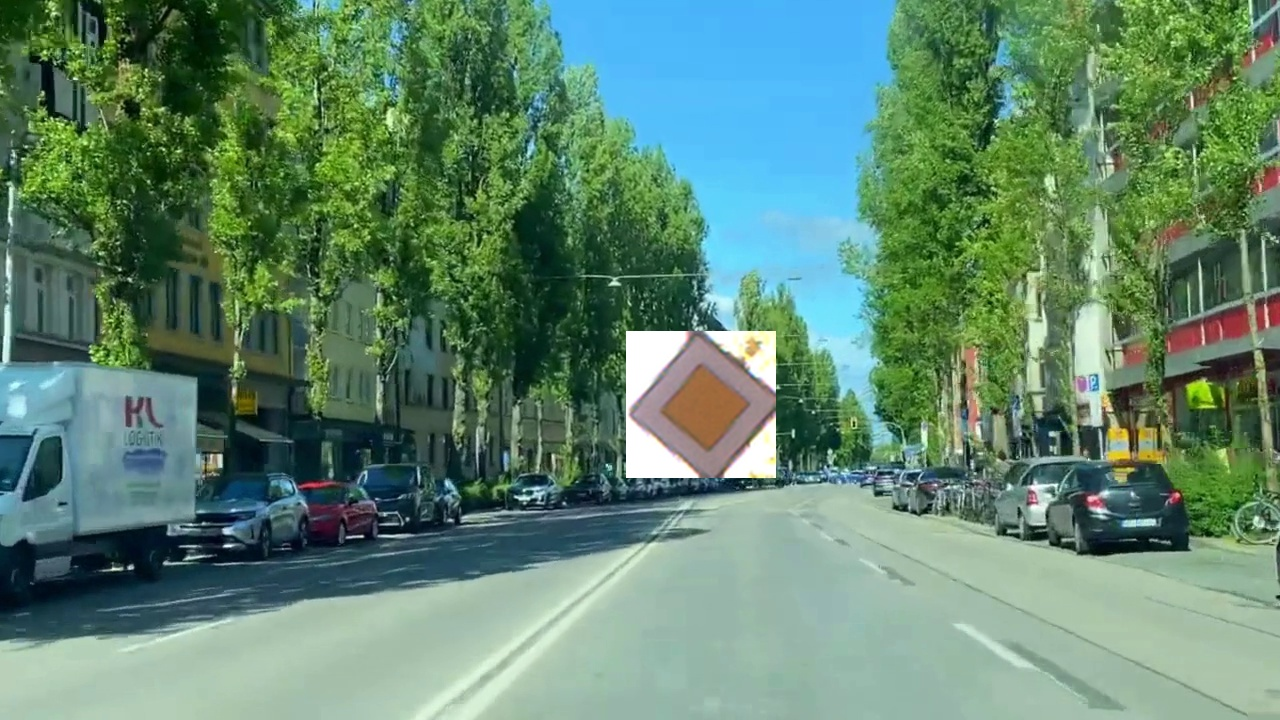Priority road: (626, 331, 776, 478)
